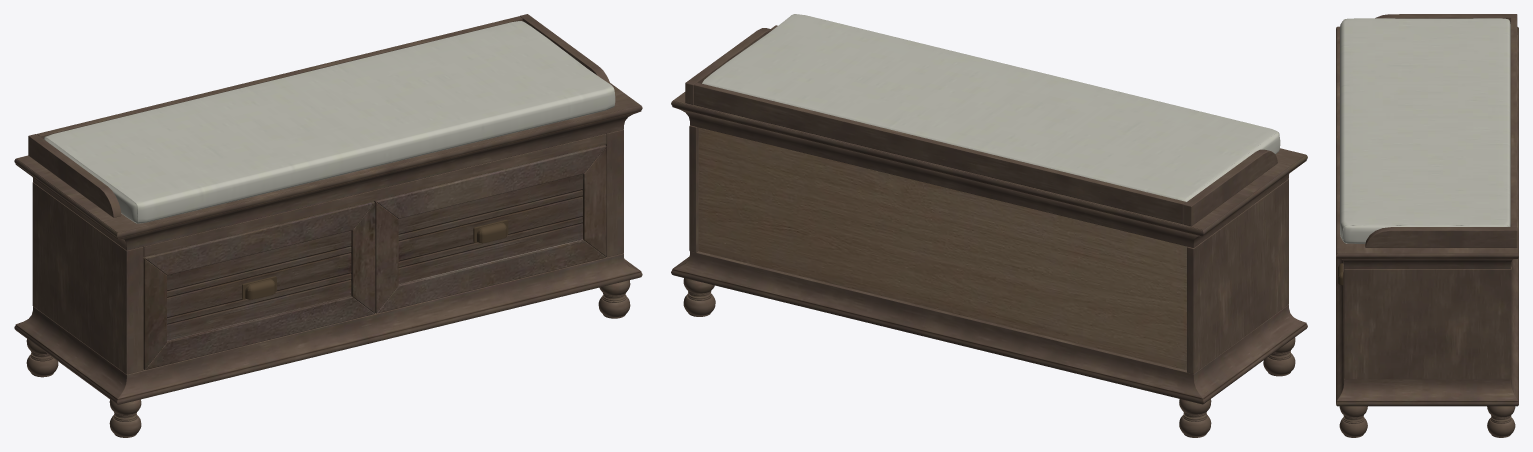
Rendered from abo-B07M6PKC6D.glb.
The picture shows the model from 3 angles, left to right: view 1: azimuth 30°, elevation 25°; view 2: azimuth 150°, elevation 25°; view 3: azimuth 270°, elevation 25°; orthographic projection. The views are drawn at different scales.
Size of the model in its own units: 1.19 by 0.501 by 0.402.
Materials: 1 (1 with a texture image).
